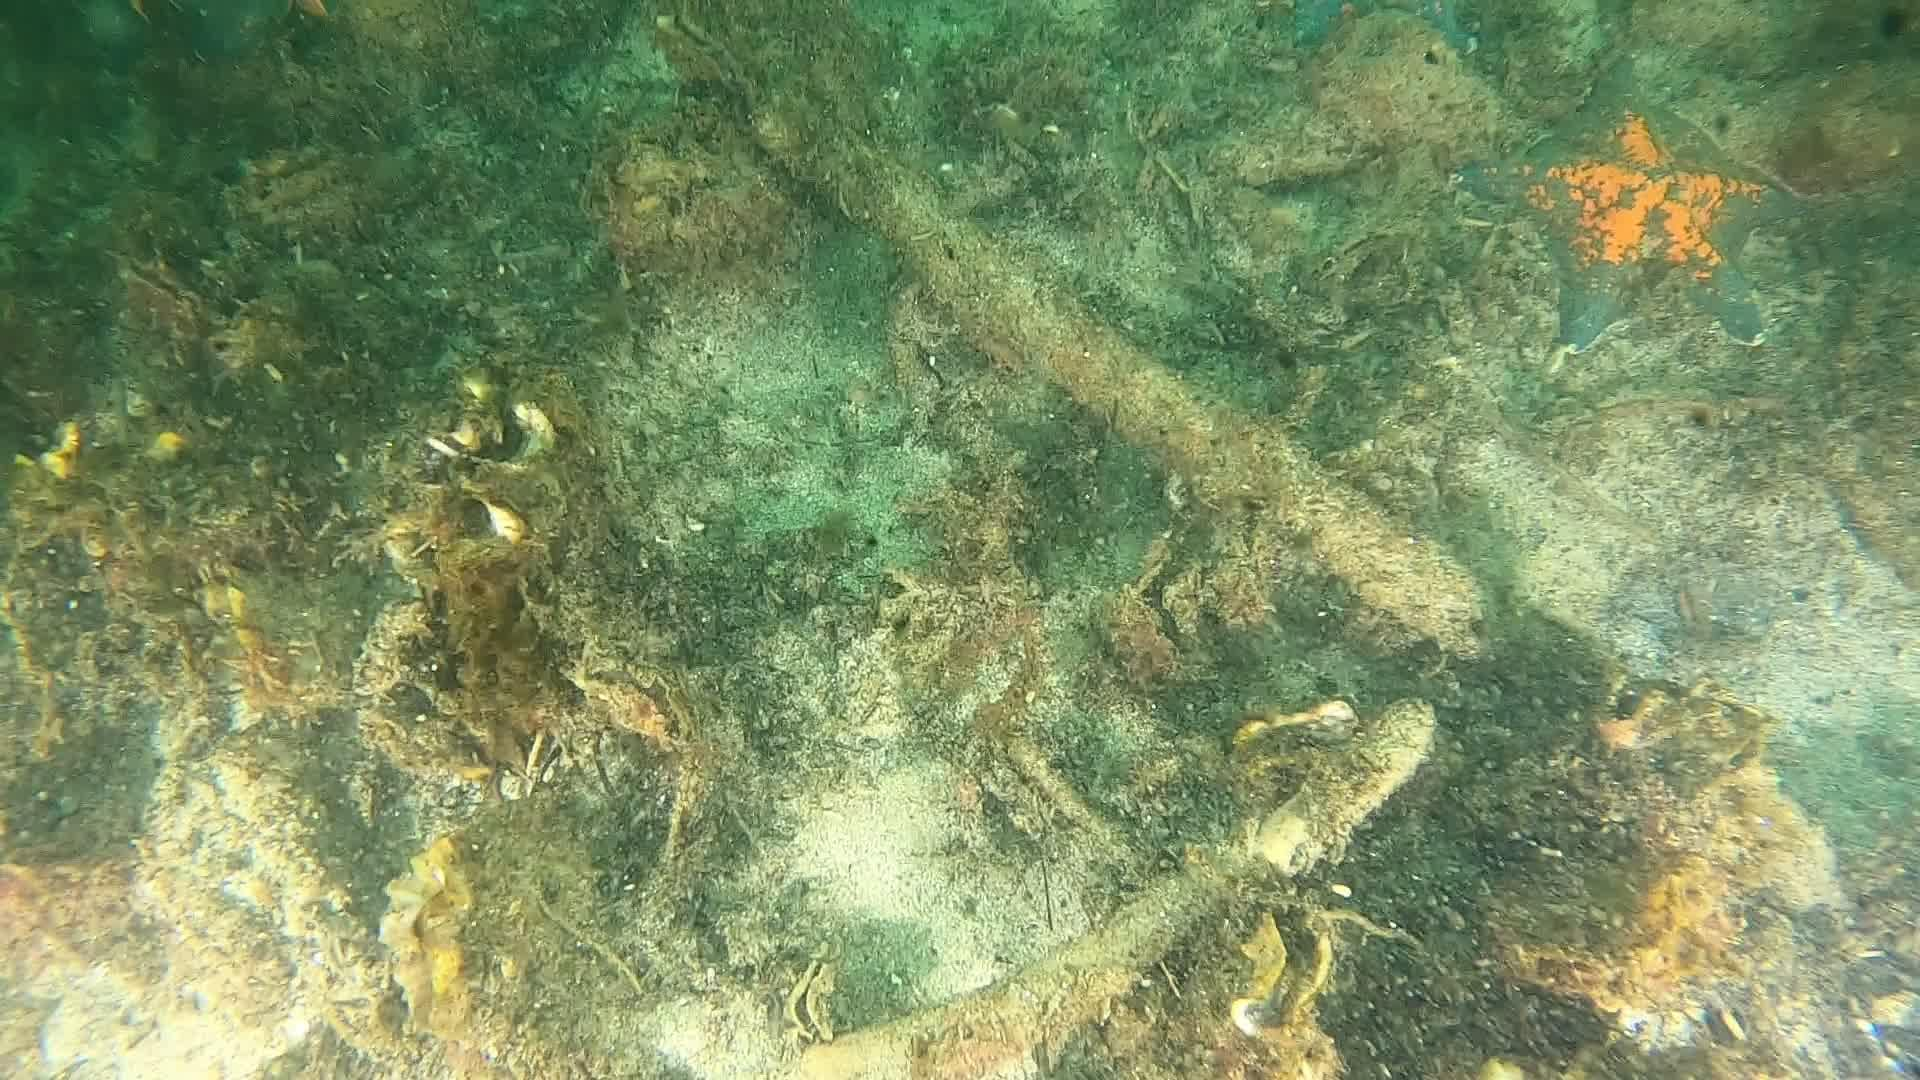wood: (663, 24, 1526, 1080)
